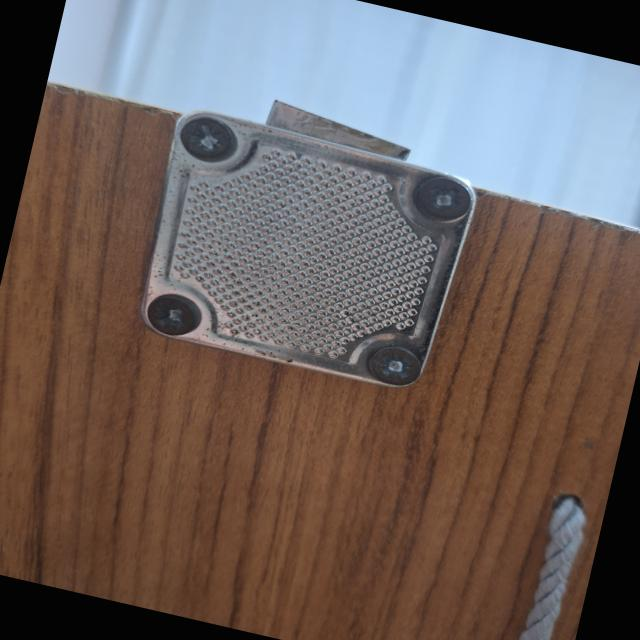Pozidriv: (172, 111, 242, 167), (138, 290, 208, 346), (417, 170, 483, 228), (362, 338, 424, 392)
